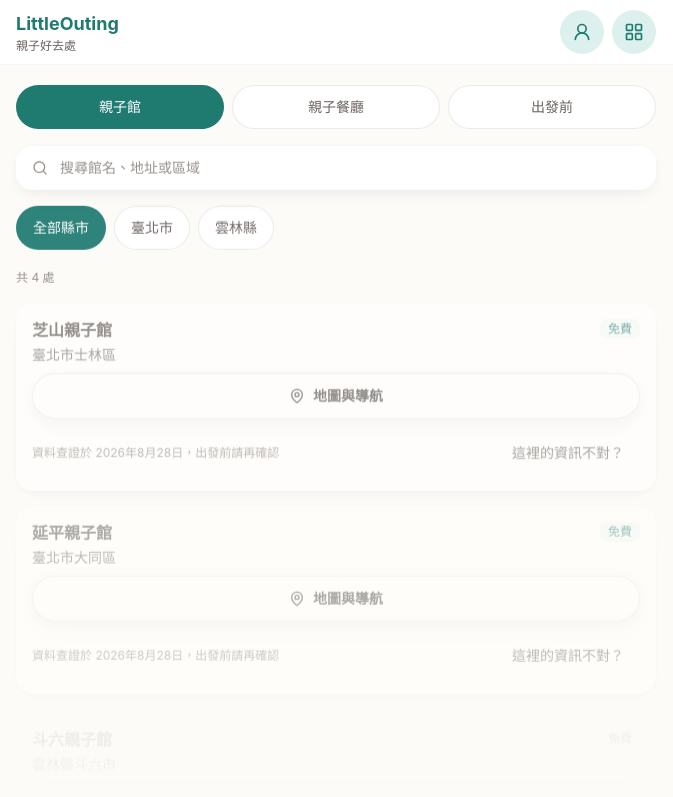
Test: 出發前檢查清單 › 每一項都畫出來
Click the button "出發前" at [552, 107], box [448, 85, 656, 129]
(page scrolled)
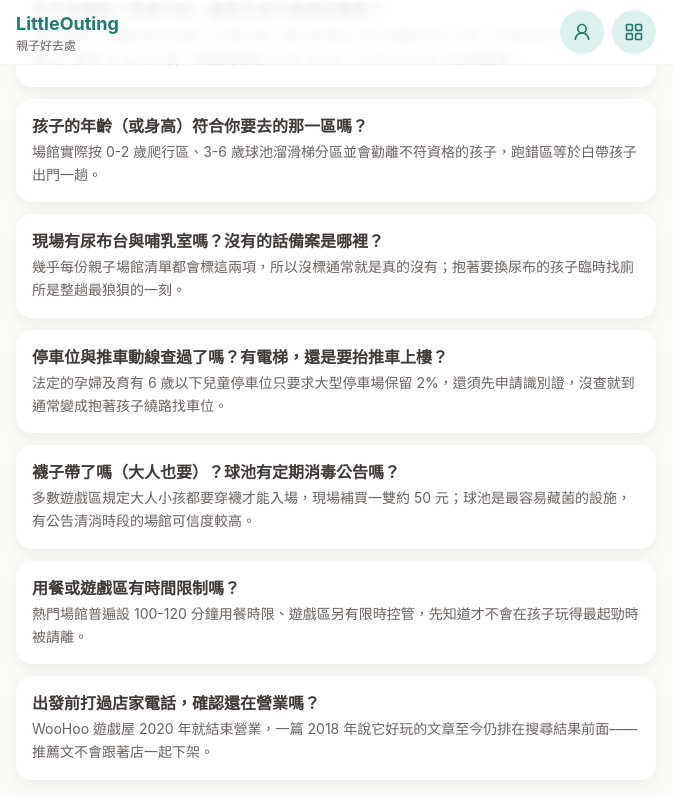
Check: the heading "孩子的年齡（或身高）符合你要去的那一區嗎？" is shown, box [32, 116, 368, 136]
Check: the text "場館實際按 0-2 歲爬行區、3-6 歲球池溜滑梯分區並會勸離不符資格的孩子，跑錯區等於白帶孩子出門一趟。" is shown, box [32, 141, 640, 186]
Check: the heading "現場有尿布台與哺乳室嗎？沒有的話備案是哪裡？" is shown, box [32, 231, 384, 251]
